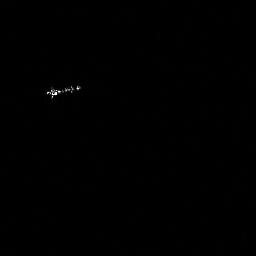ship: (47, 84, 80, 97)
